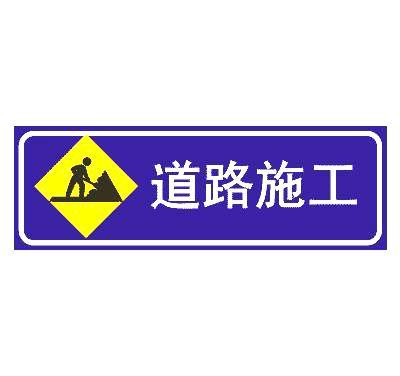sign: (17, 130, 382, 246)
